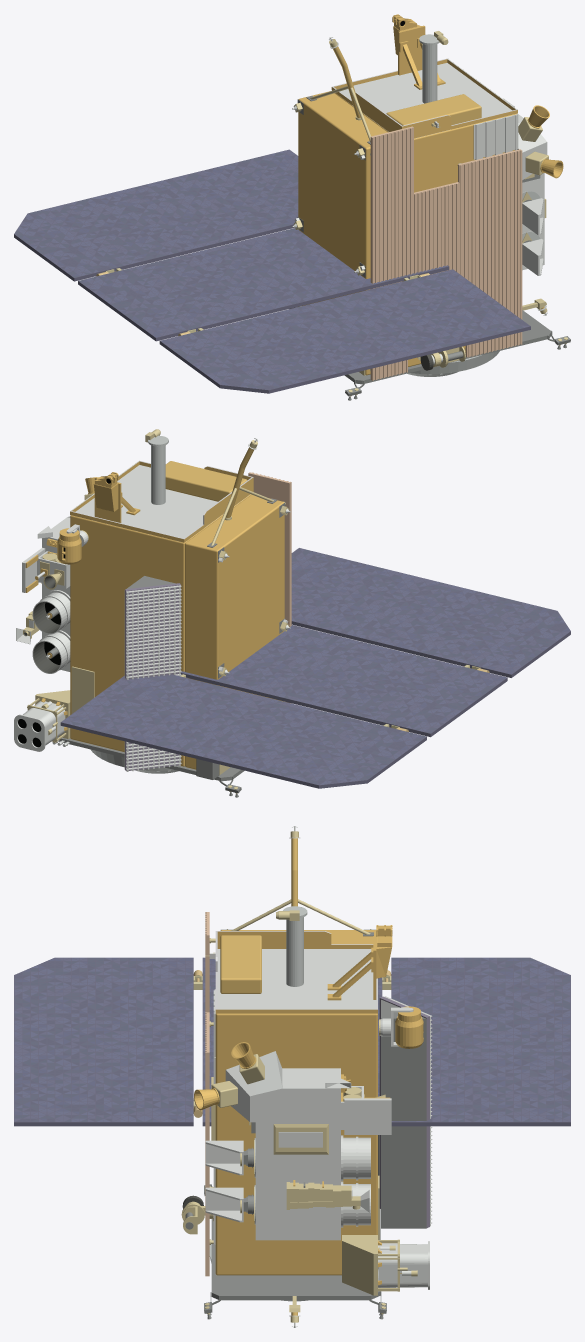
Rendered from space-lro.glb.
The picture shows the model from 3 angles, top to bottom: view 1: azimuth 30°, elevation 25°; view 2: azimuth 150°, elevation 25°; view 3: azimuth 270°, elevation 25°; orthographic projection. The views are drawn at different scales.
Parts seen in each view (by area): view 1: Layer_0; view 2: Layer_0; view 3: Layer_0.
Part boxes in pixels (x1=…): Layer_0: x1=14, y1=14, x2=570, y2=400; Layer_0: x1=14, y1=429, x2=570, y2=797; Layer_0: x1=14, y1=826, x2=570, y2=1327.
Bounding box in the file's own units: 33.28 × 26.29 × 32.26.
4 materials, 4 textured.
